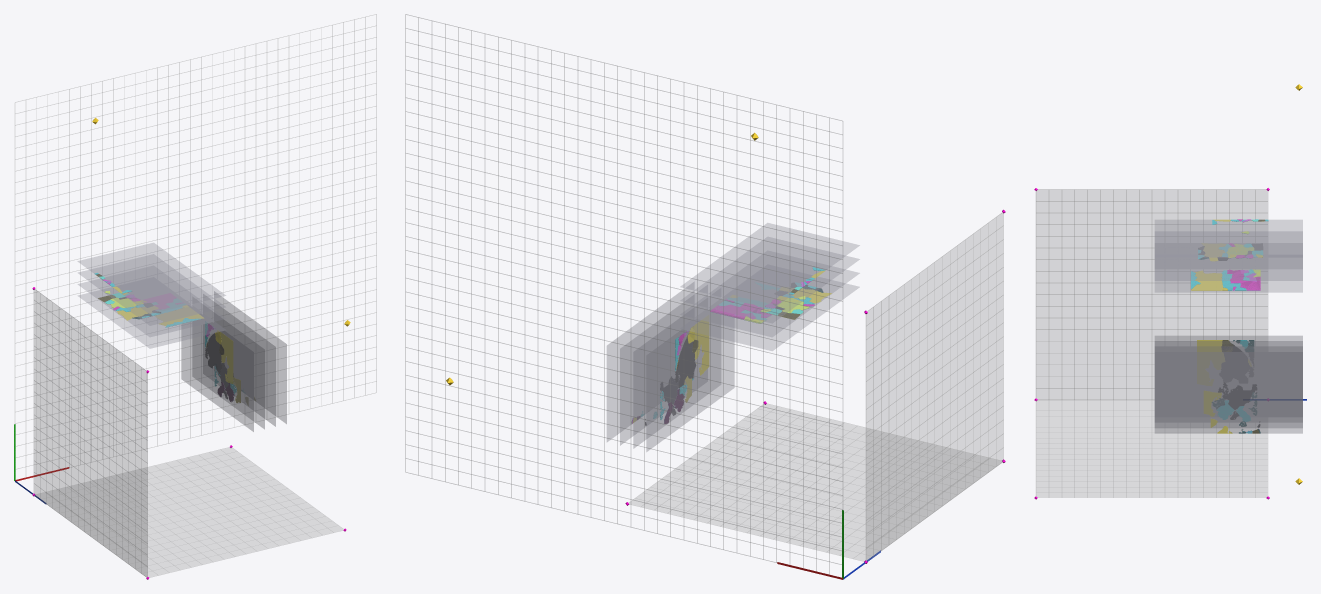
The model's file is shards.obj.
3 views of the same model, side by side, from view 1: azimuth 30°, elevation 25°; view 2: azimuth 150°, elevation 25°; view 3: azimuth 270°, elevation 25° (orthographic). The views are drawn at different scales.
Visible parts, largest first — view 1: wall_A, wall_B, grid_floor, panel_B3, panel_B2, panel_A0, panel_A1, panel_A3, panel_A2, panel_B0, panel_B1, Y (+5 smaller); view 2: wall_A, wall_B, grid_floor, panel_B3, panel_A0, panel_B2, panel_A1, panel_A3, panel_A2, panel_B1, panel_B0, grid_wallA (+5 smaller); view 3: wall_A, wall_B, panel_A2, panel_A3, panel_B2, panel_B3, grid_wallA, panel_B1, panel_B0, Y, K, panel_A1 (+4 smaller).
Boxes of the visible parts, <box> form: wall_A: <box>34,290,147,576</box>; wall_B: <box>36,447,343,577</box>; grid_floor: <box>15,14,376,469</box>; panel_B3: <box>77,243,225,313</box>; panel_B2: <box>78,254,225,325</box>; panel_A0: <box>181,322,253,431</box>; panel_A1: <box>192,311,264,429</box>; panel_A3: <box>214,291,286,423</box>; panel_A2: <box>203,299,275,426</box>; panel_B0: <box>78,290,225,348</box>; panel_B1: <box>78,279,225,336</box>; Y: <box>96,275,255,403</box>; wall_A: <box>866,213,1003,560</box>; wall_B: <box>629,404,1001,560</box>; grid_floor: <box>405,14,842,574</box>; panel_B3: <box>680,223,859,309</box>; panel_A0: <box>646,319,734,451</box>; panel_B2: <box>680,237,859,323</box>; panel_A1: <box>633,305,720,448</box>; panel_A3: <box>607,282,694,441</box>; panel_A2: <box>620,292,707,445</box>; panel_B1: <box>680,266,859,336</box>; panel_B0: <box>680,280,859,350</box>; grid_wallA: <box>866,212,1003,560</box>; wall_A: <box>1036,190,1267,399</box>; wall_B: <box>1036,400,1267,497</box>; panel_A2: <box>1155,346,1302,427</box>; panel_A3: <box>1155,352,1302,433</box>; panel_B2: <box>1155,231,1302,268</box>; panel_B3: <box>1155,220,1302,257</box>; grid_wallA: <box>1036,189,1267,399</box>; panel_B1: <box>1155,257,1302,280</box>; panel_B0: <box>1155,269,1302,292</box>; Y: <box>1191,219,1264,433</box>; K: <box>1198,219,1265,433</box>; panel_A1: <box>1155,341,1302,351</box>.
Size of the model in its own units: 3318 by 3318 by 2115.
